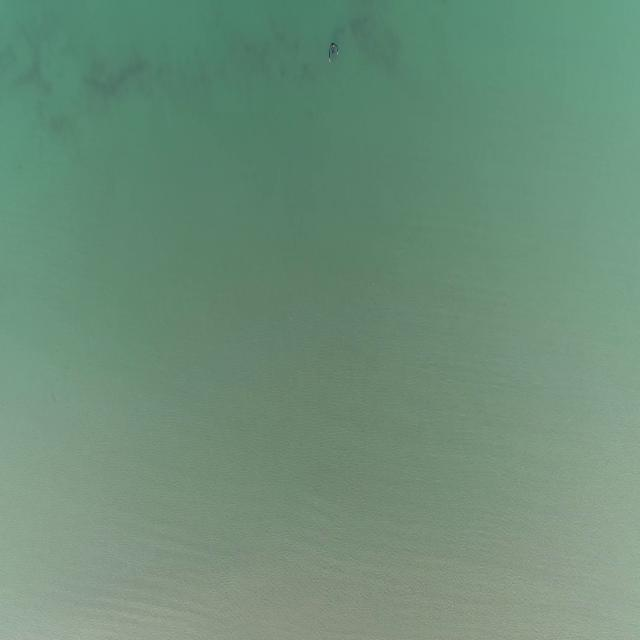person: (327, 42, 340, 62)
